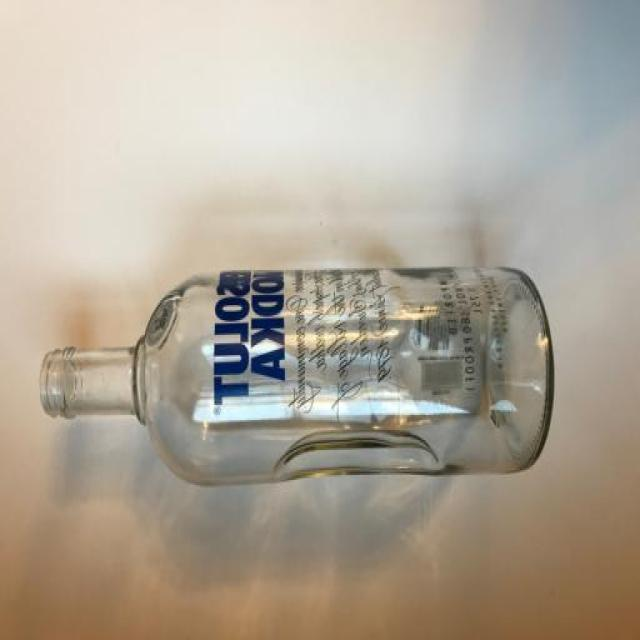glass: (41, 256, 554, 488)
